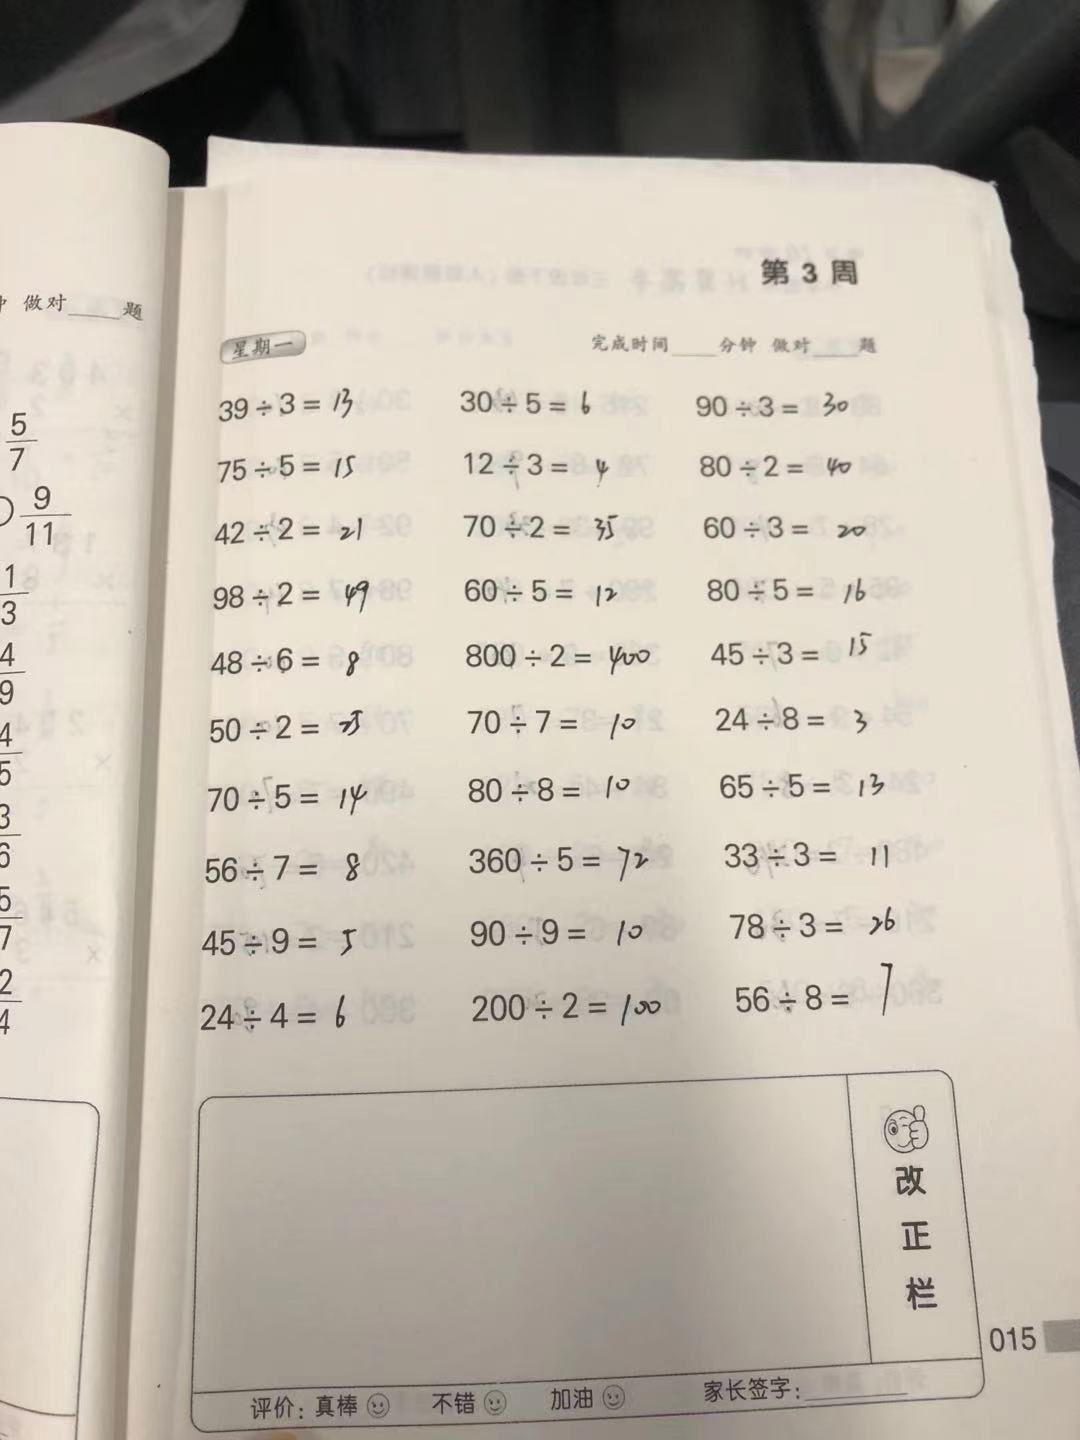equation: (711, 950, 930, 1030), (447, 752, 663, 815), (184, 838, 407, 898), (448, 833, 673, 890), (452, 981, 670, 1035), (193, 633, 394, 692), (452, 633, 673, 681), (461, 912, 667, 964), (187, 922, 388, 975), (442, 565, 657, 615), (680, 378, 881, 430), (702, 693, 904, 744), (189, 993, 379, 1045), (444, 373, 625, 427), (717, 762, 910, 813), (701, 835, 921, 879), (197, 505, 387, 556), (199, 762, 365, 818), (461, 698, 663, 744), (445, 507, 636, 554), (196, 575, 383, 621), (189, 379, 381, 424), (691, 571, 891, 613), (687, 505, 881, 548), (716, 904, 916, 945), (189, 708, 371, 752), (691, 630, 891, 670), (690, 452, 888, 490), (208, 444, 373, 488), (459, 444, 631, 482)
